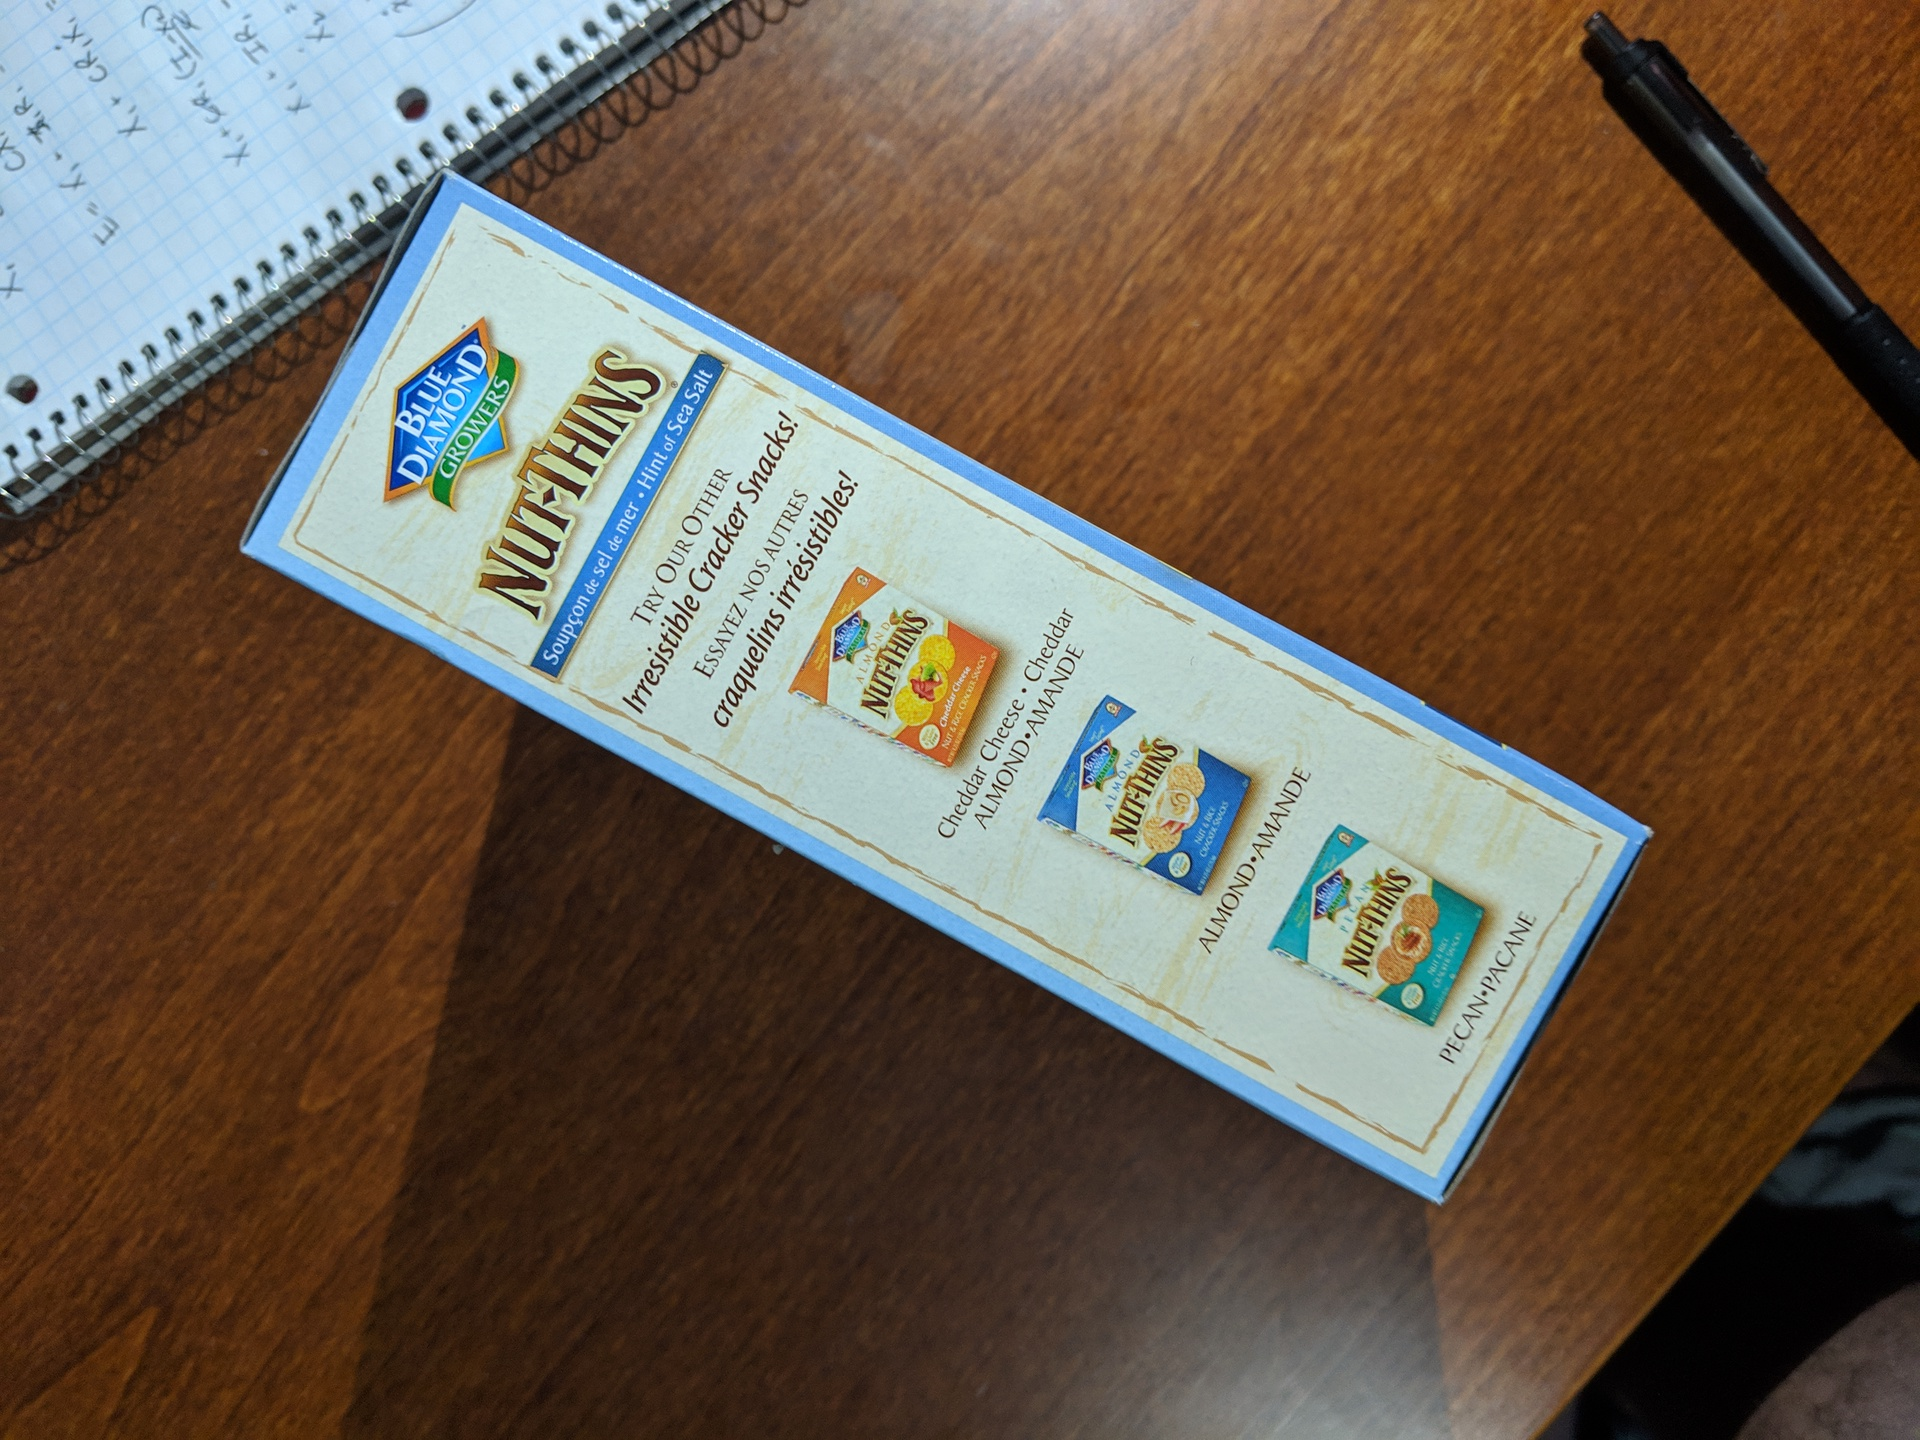blue_diamond_nut_thins_almond_seasalt: (358, 298, 1575, 1068)
